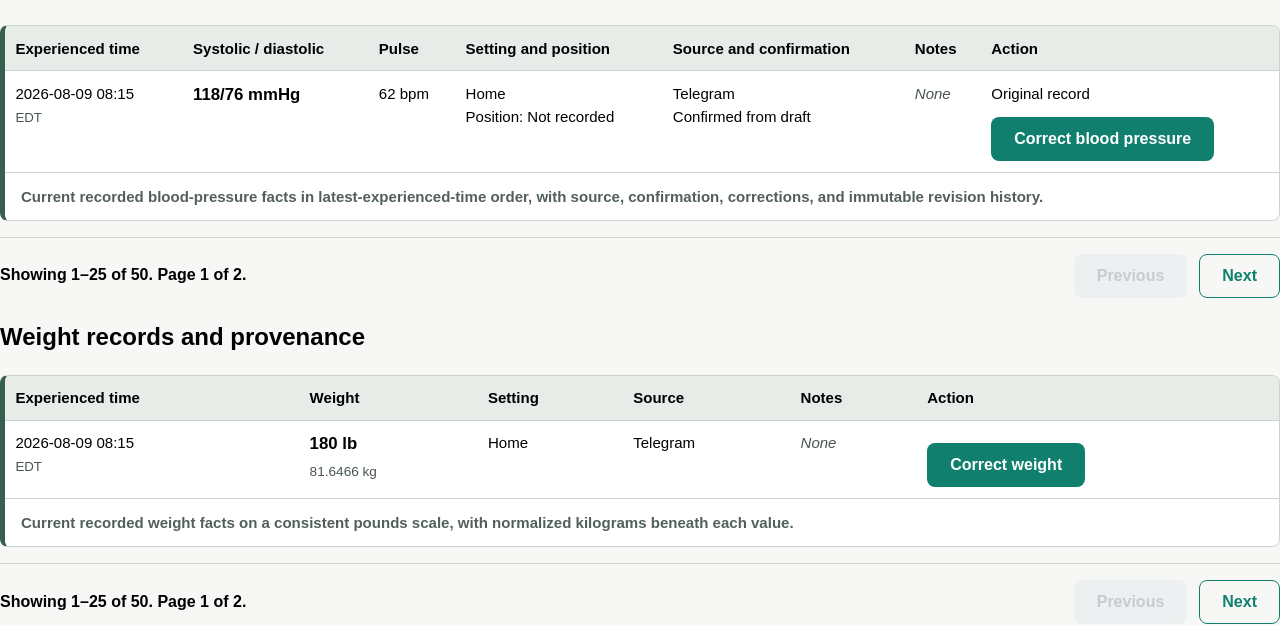
Test: Health data page › shares local-date filters in the URL and preserves them while paging
This screenshot has width=1280, height=625.
(page scrolled)
What coordinates should you click on to do the following:
click the 2nd button "Next"
I would click on:
 (1240, 276)
Its box is [1199,254,1279,298].
(page scrolled)
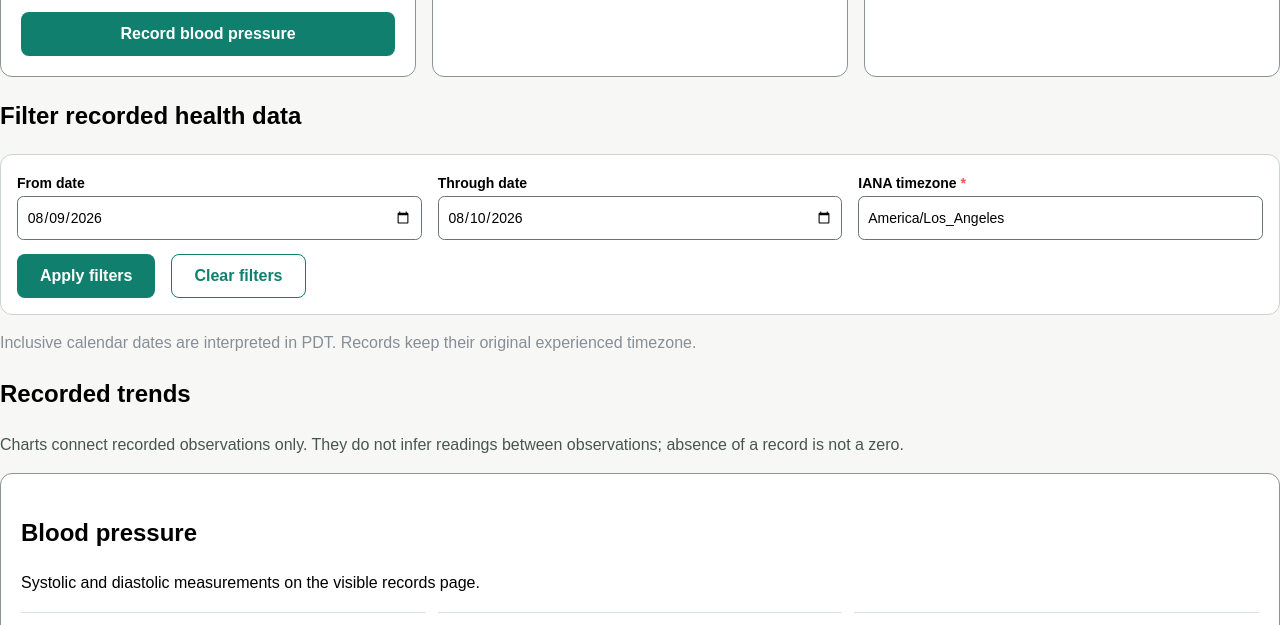
Expected: the date field labelled "From date" holds "2026-08-09", [17,196,422,240]
What coordinates should you click on to do the following:
click the button "Clear filters"
I would click on:
 (238, 276)
Its box is [172,254,306,298].
(page scrolled)
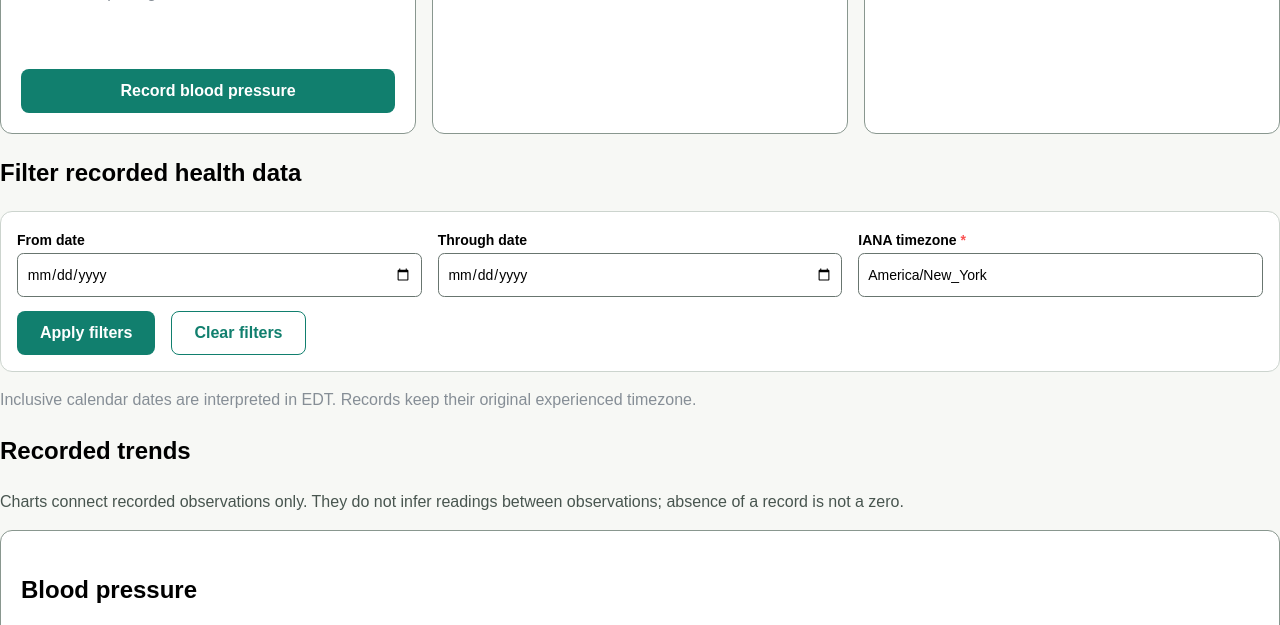
Result: the date field labelled "From date" is empty at [17,253,422,297]
Result: the date field labelled "Through date" is empty at [438,253,842,297]
Result: the field labelled "IANA timezone" holds "America/New_York" at [858,253,1263,297]
